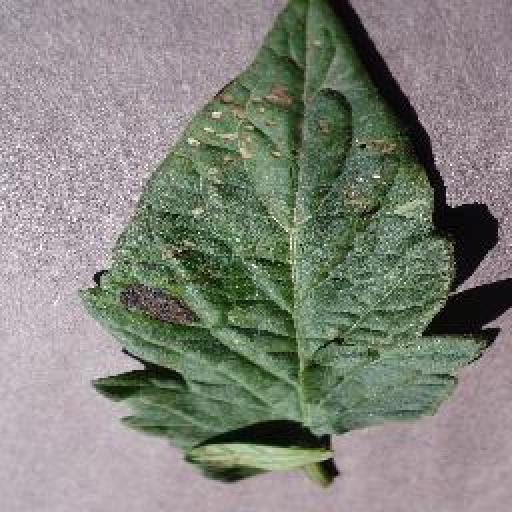disease_tomato: (74, 4, 491, 481)
